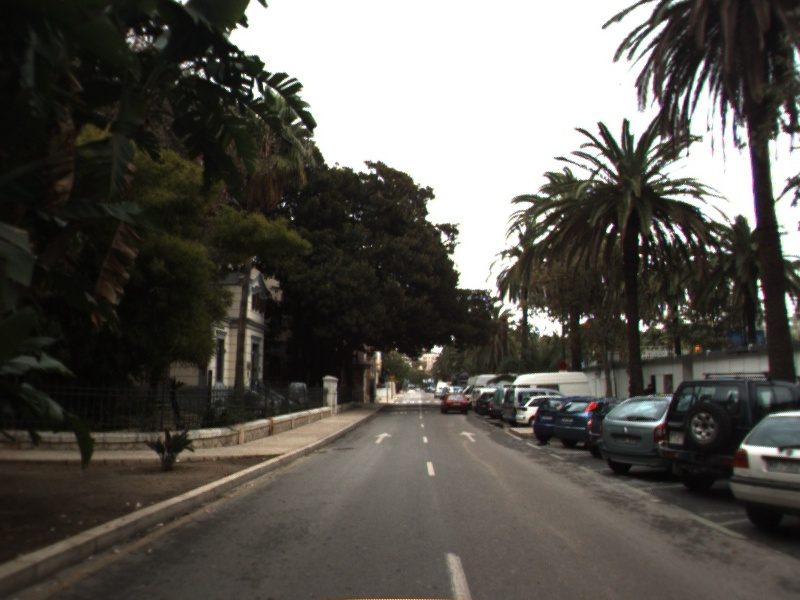STRAIGHT: (372, 431, 394, 445), (457, 429, 478, 443)
